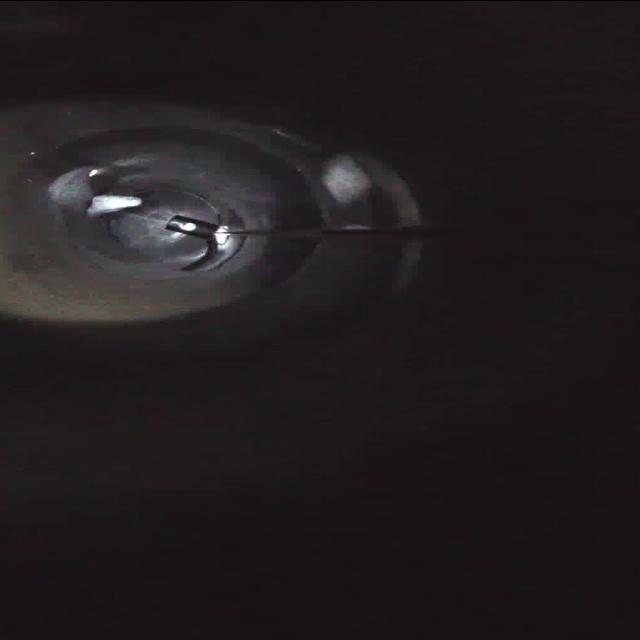impurity: (76, 186, 149, 222)
